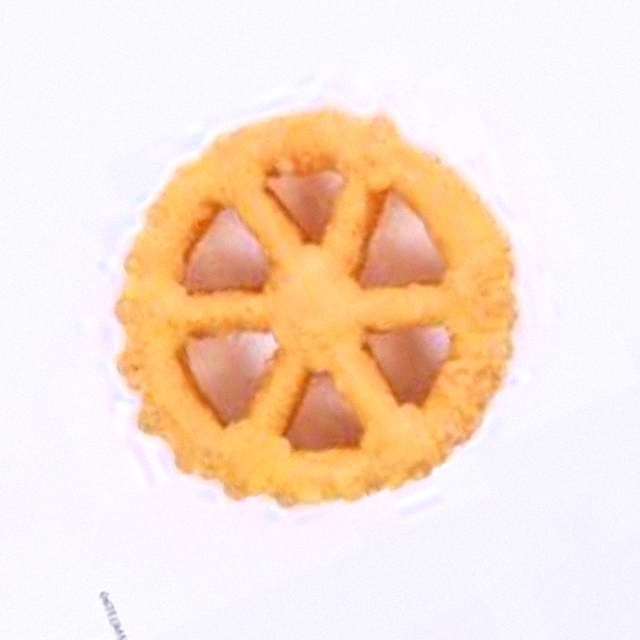Kokis: (100, 121, 540, 519)
